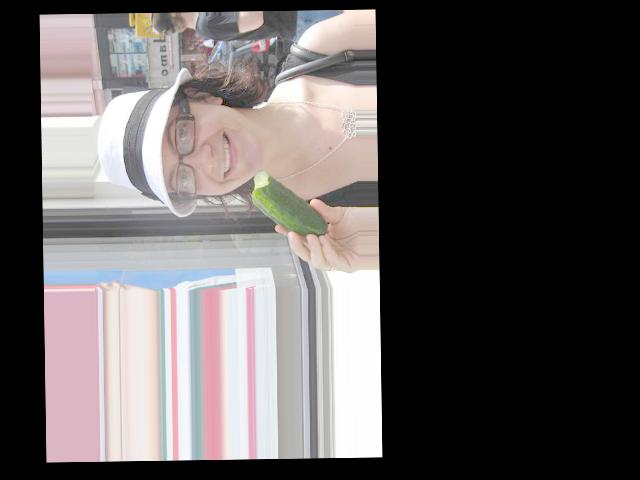cucumber: (251, 171, 328, 239)
